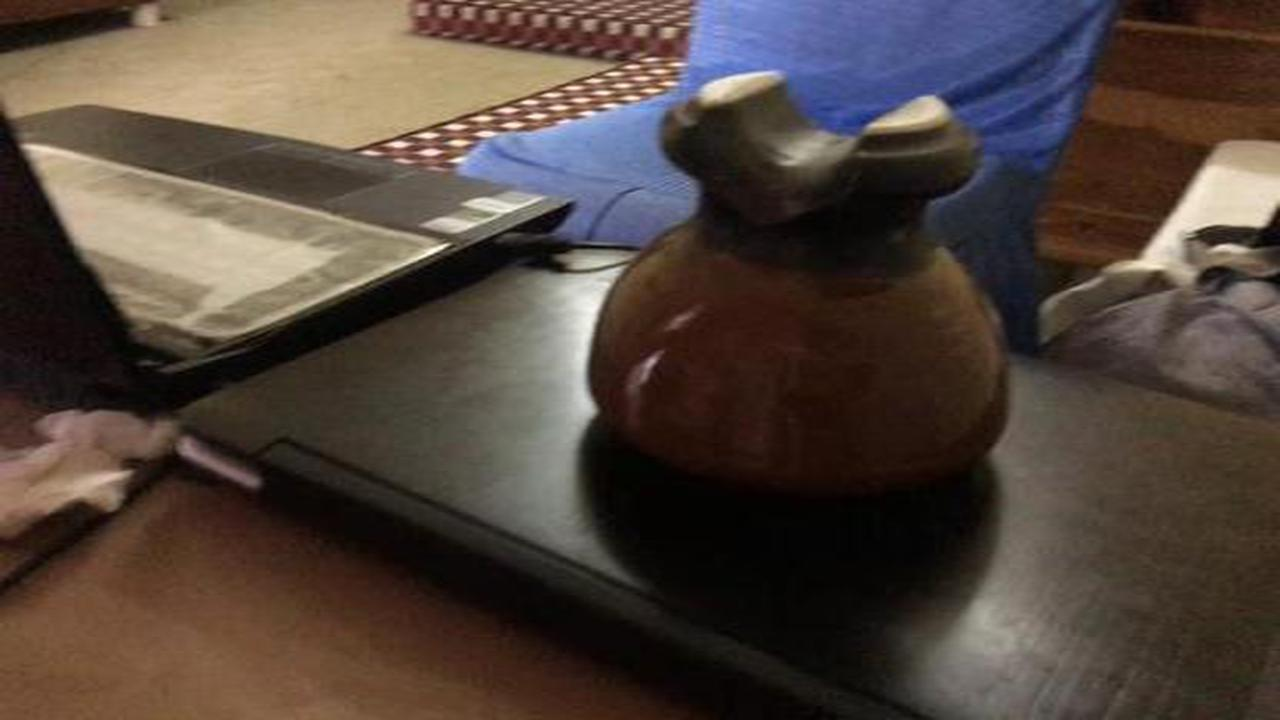insulator_pin: (582, 54, 1034, 506)
